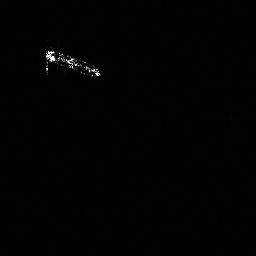ship: (39, 44, 104, 81)
